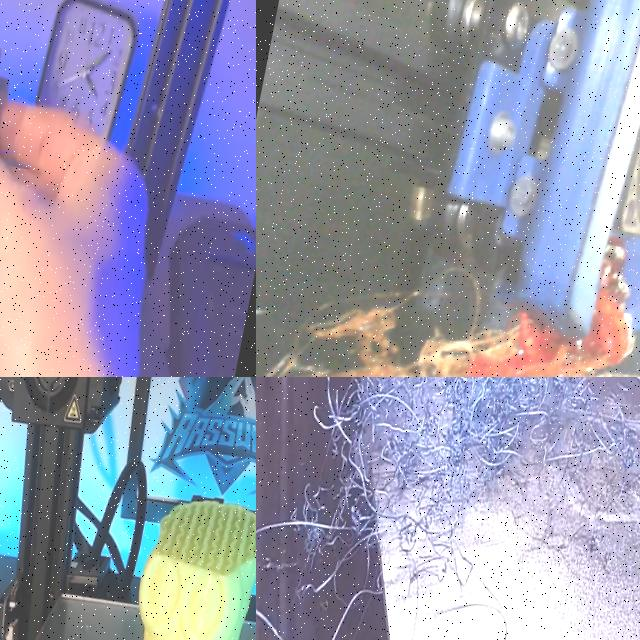spaghetti: (296, 377, 640, 615), (267, 239, 640, 377), (268, 238, 634, 377)
